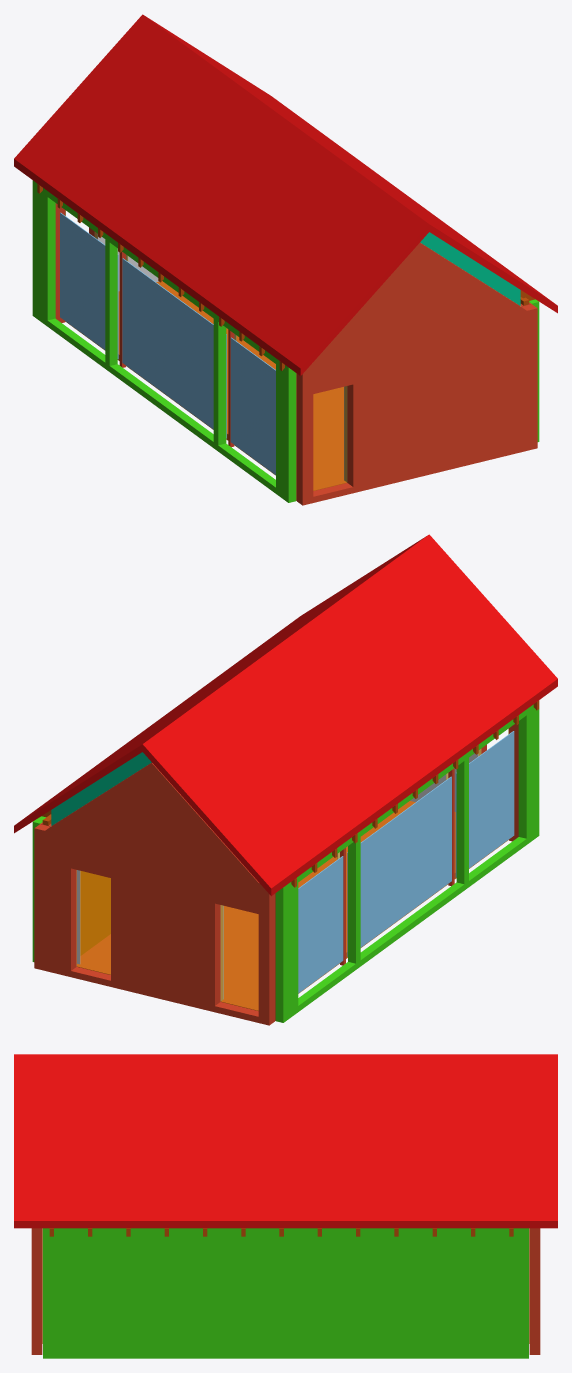
The model's file is obyvak.glb.
The picture shows the model from 3 angles, top to bottom: view 1: azimuth 30°, elevation 25°; view 2: azimuth 150°, elevation 25°; view 3: azimuth 270°, elevation 25°; orthographic projection. The views are drawn at different scales.
Parts seen in each view (by area): view 1: roofing, masonry (×2), glazing (×3), eps, floor, plenum_wool; view 2: roofing, masonry (×2), glazing (×3), eps, floor, furniture, plenum_wool; view 3: roofing, eps, masonry (×2).
Boxes of the visible parts, x1=… form: roofing: x1=14, y1=14, x2=557, y2=376; masonry (×2): x1=55, y1=203, x2=537, y2=505; glazing (×3): x1=60, y1=212, x2=275, y2=474; eps: x1=32, y1=180, x2=296, y2=502; floor: x1=65, y1=281, x2=346, y2=490; plenum_wool: x1=420, y1=232, x2=520, y2=305; roofing: x1=14, y1=534, x2=557, y2=896; masonry (×2): x1=34, y1=724, x2=518, y2=1025; glazing (×3): x1=298, y1=731, x2=514, y2=993; eps: x1=275, y1=704, x2=539, y2=1022; floor: x1=77, y1=801, x2=508, y2=1010; furniture: x1=80, y1=871, x2=110, y2=955; plenum_wool: x1=51, y1=752, x2=151, y2=825; roofing: x1=14, y1=1054, x2=557, y2=1228; eps: x1=43, y1=1228, x2=528, y2=1358; masonry (×2): x1=31, y1=1228, x2=540, y2=1354.
Size of the model in its own units: 6.44 by 6.21 by 12.43.
